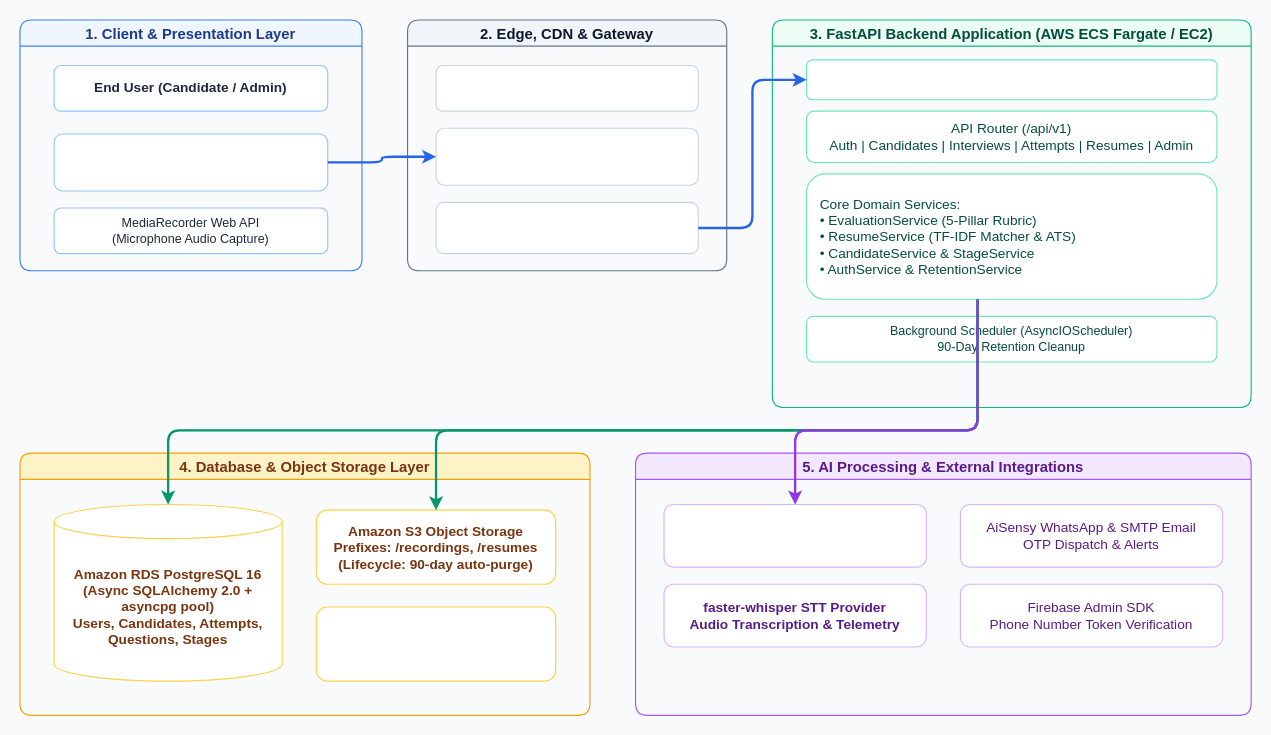
The diagram is 1271 pixels wide and 735 high, and some of its shapes have lost their labels. The shapes that lost their labels are listed below. From the top down, each one's centre as x and y in pixels, then its label:
the point at 566,87: Amazon Route 53 (DNS)
the point at 1011,79: Uvicorn ASGI Server (Port 8000)
the point at 190,162: Next.js 14 Frontend UI (TypeScript + Tailwind CSS + Zustand)
the point at 566,156: CloudFront CDN / Vercel Edge (ACM Managed SSL/TLS)
the point at 566,227: Application Load Balancer (ALB) Path: /api/v1/* -> Port 8000
the point at 794,535: OpenAI GPT-4o-mini / Ollama Llama3 Evaluation, Rubrics, Question Gen
the point at 435,643: Admin In-Memory TTL Cache (admin_ttl_cache, 60s TTL)
